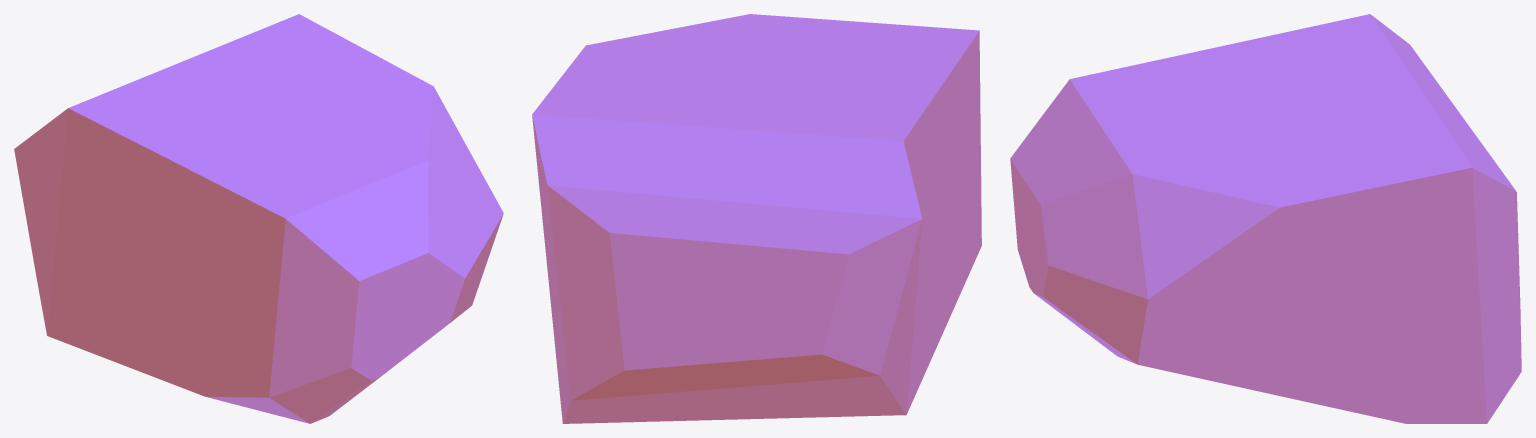
File: Red ore 1.fbx
The picture shows the model from 3 angles, left to right: view 1: azimuth 30°, elevation 25°; view 2: azimuth 150°, elevation 25°; view 3: azimuth 270°, elevation 25°; orthographic projection. The views are drawn at different scales.
Visible parts, largest first — view 1: RED - ore 3; view 2: RED - ore 3; view 3: RED - ore 3.
Part boxes in pixels (x1,y1,x2,y2): RED - ore 3: (14, 14, 503, 423); RED - ore 3: (532, 14, 981, 423); RED - ore 3: (1010, 14, 1521, 423).
Size of the model in its own units: 21.71 by 15.22 by 24.88.
